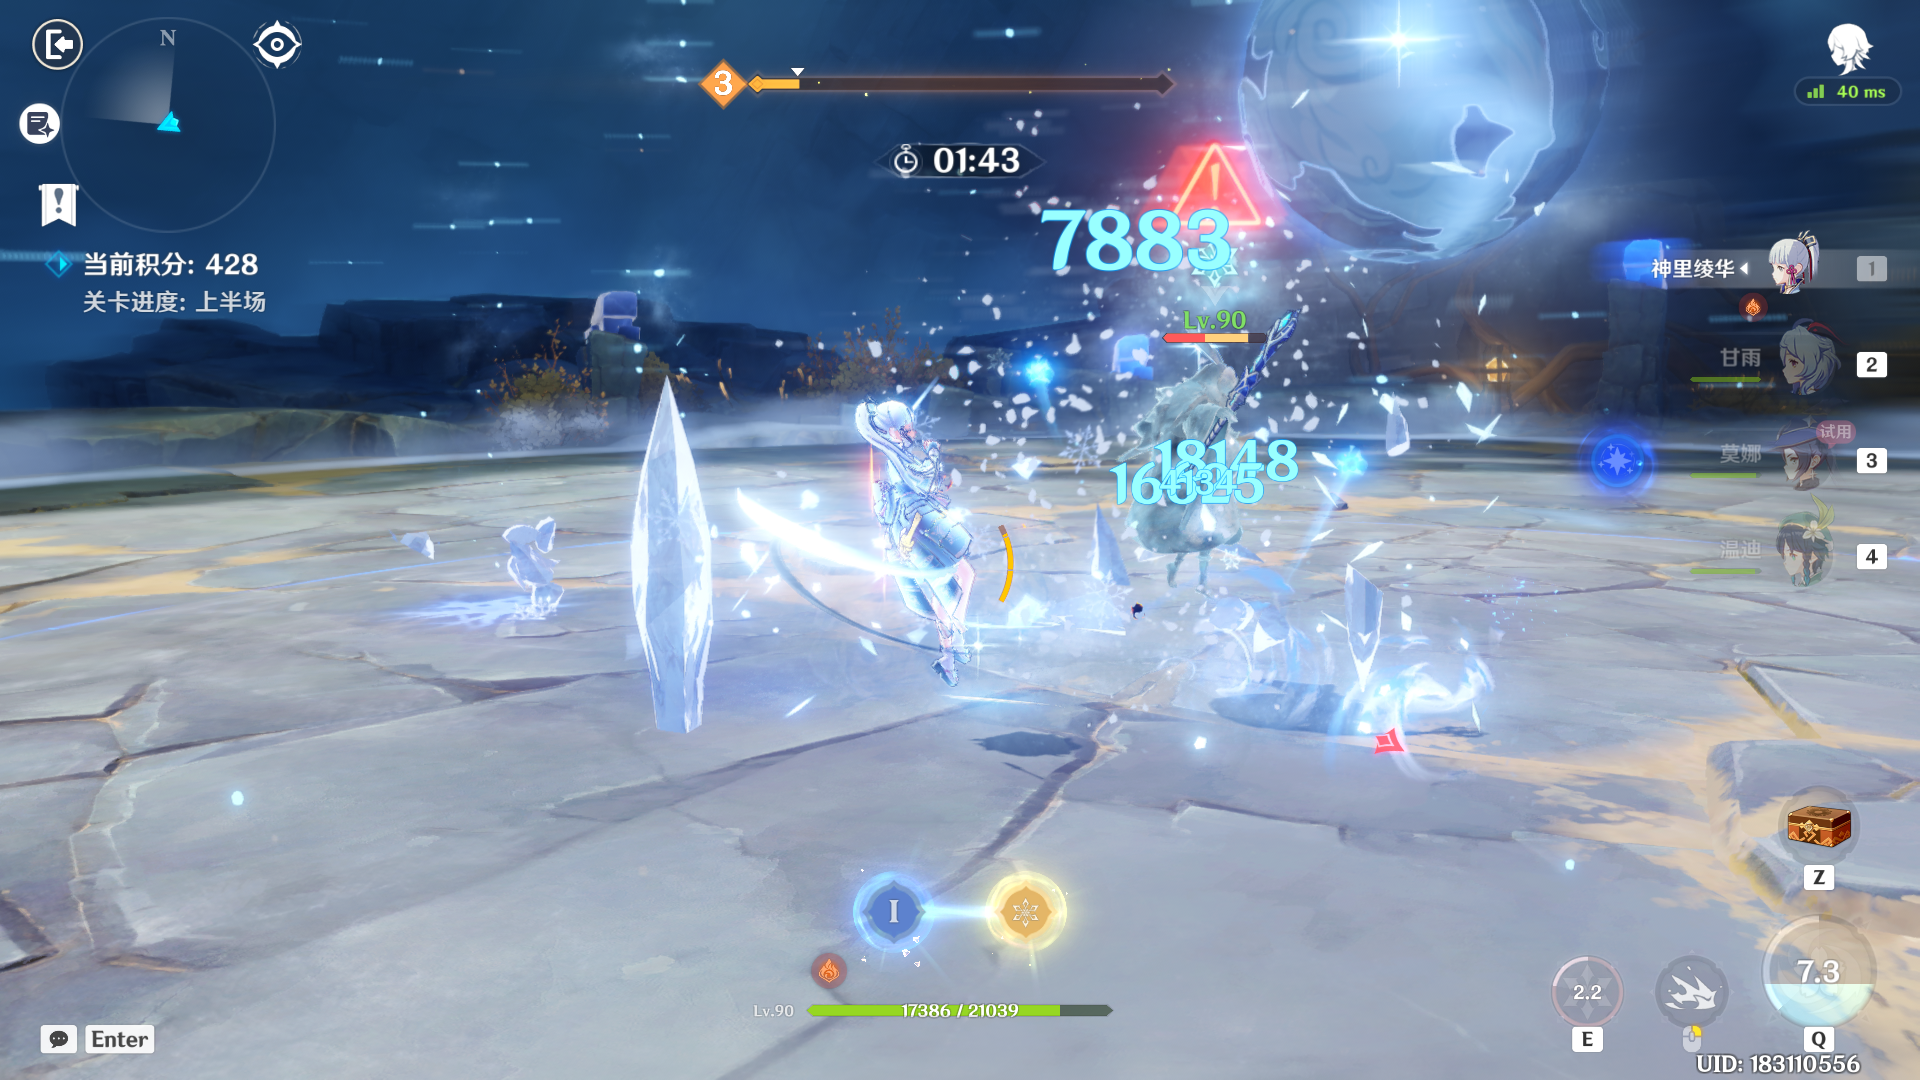caster: (1079, 314, 1269, 600)
character: (818, 373, 1029, 696)
